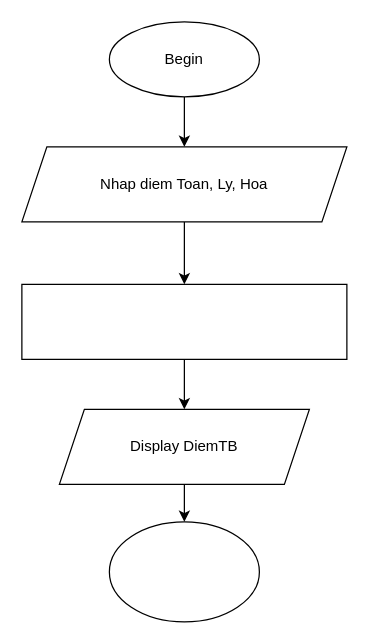
Some shapes in this 369 by 644 pixel diagram are drawn without their labels. The shapes that lost their labels are listed below. From the top down, each one's centre as x and y in pixels, then its label:
At pixel 184 321: "DiemTB = (Toan + Ly + Hoa) / 3".
At pixel 183 571: "End".
